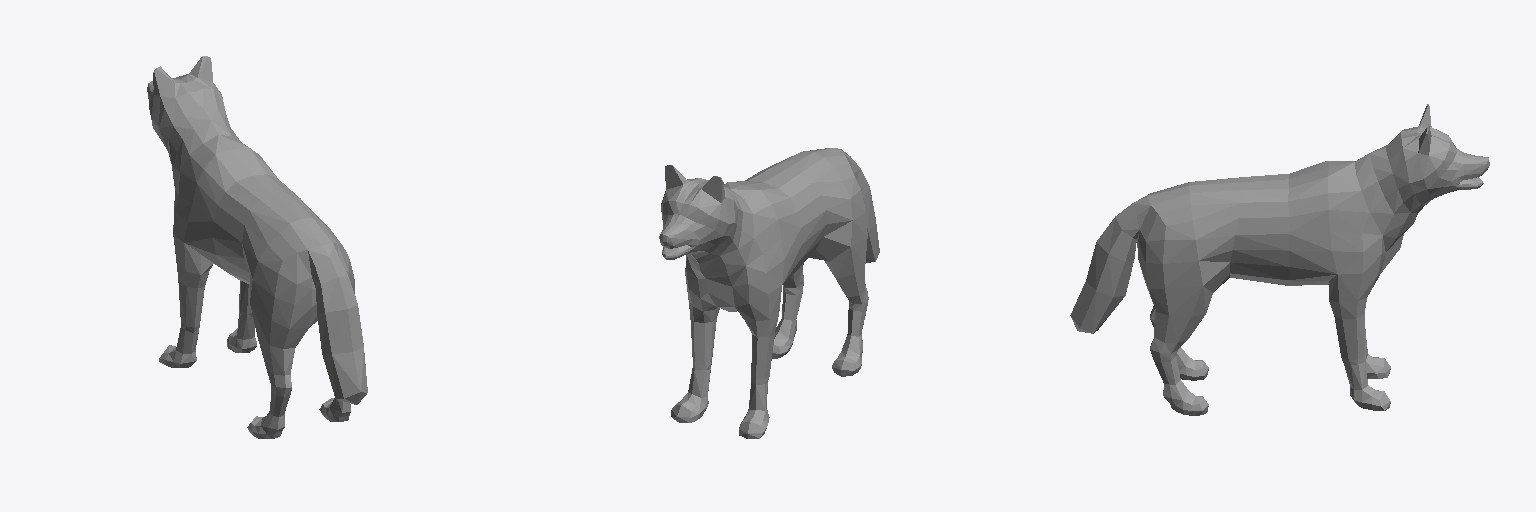
File: coyote.obj
3 renders of one model, left to right at view 1: azimuth 30°, elevation 25°; view 2: azimuth 150°, elevation 25°; view 3: azimuth 270°, elevation 25°, orthographic.
Parts seen in each view (by area): view 1: wolf___jN; view 2: wolf___jN; view 3: wolf___jN.
Boxes of the visible parts, x1=… form: wolf___jN: x1=147, y1=56, x2=367, y2=438; wolf___jN: x1=659, y1=148, x2=879, y2=438; wolf___jN: x1=1070, y1=104, x2=1489, y2=415.
Bounding box in the file's own units: 4.45 × 12.52 × 17.